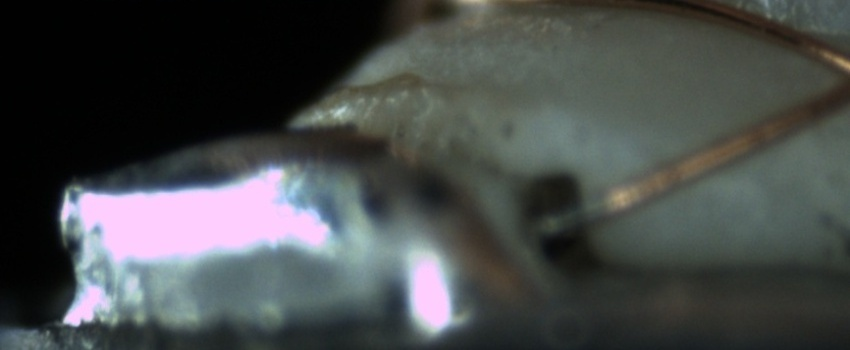CL: (807, 38, 849, 113)
TS: (537, 193, 608, 241)
